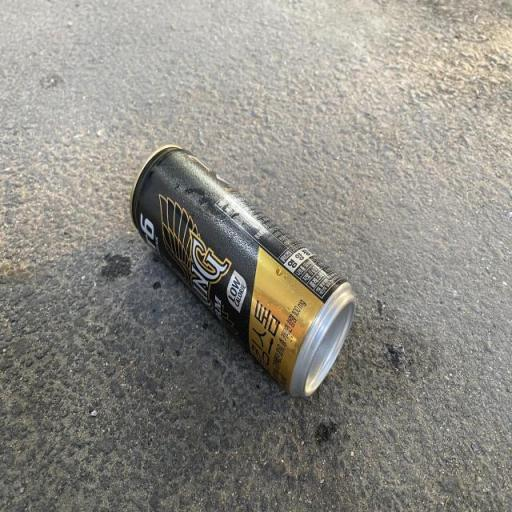metal: (118, 137, 387, 424)
